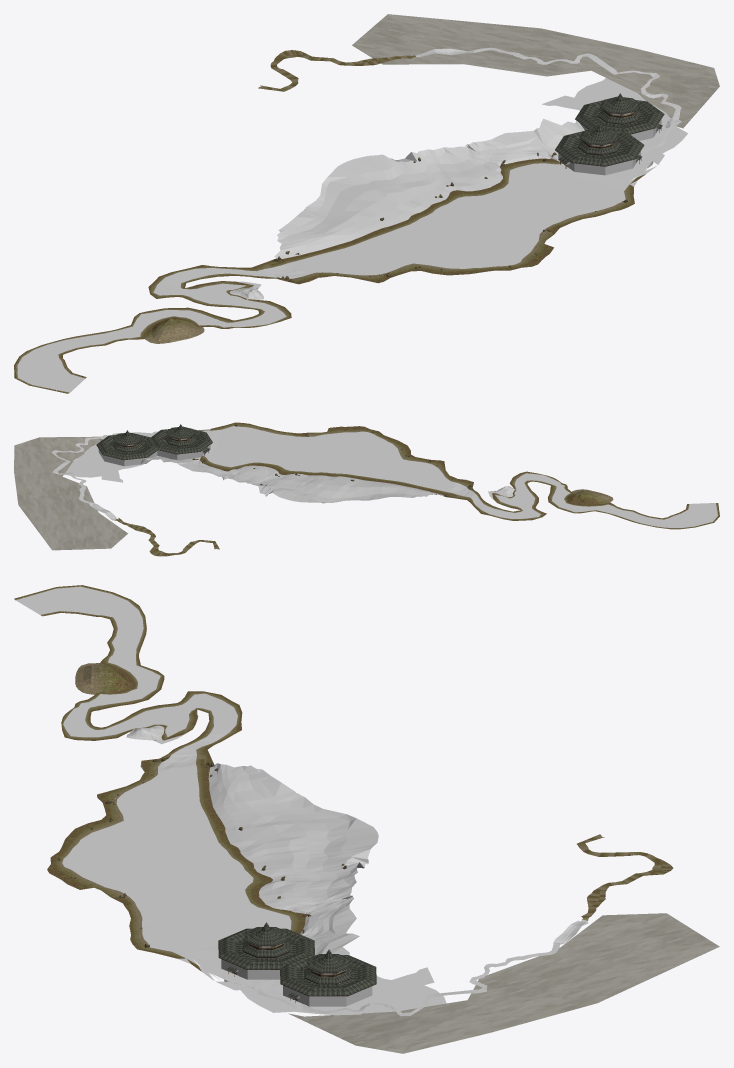
The picture shows the model from 3 angles, top to bottom: view 1: azimuth 30°, elevation 25°; view 2: azimuth 150°, elevation 25°; view 3: azimuth 270°, elevation 25°; orthographic projection. The views are drawn at different scales.
Parts seen in each view (by area): view 1: dimian01, shui, po001, menggubao, lu, lu002, po003; view 2: dimian01, shui, po001, menggubao, lu, lu002, po003; view 3: dimian01, shui, po001, menggubao, lu, po003, lu002.
Part boxes in pixels (x1=…): dimian01: x1=17, y1=78, x2=676, y2=392; shui: x1=352, y1=14, x2=719, y2=128; po001: x1=14, y1=158, x2=645, y2=393; menggubao: x1=537, y1=93, x2=664, y2=175; lu: x1=415, y1=47, x2=681, y2=164; lu002: x1=258, y1=50, x2=415, y2=91; po003: x1=144, y1=318, x2=204, y2=343; dimian01: x1=64, y1=426, x2=717, y2=527; shui: x1=14, y1=436, x2=127, y2=550; po001: x1=198, y1=422, x2=719, y2=529; menggubao: x1=96, y1=424, x2=212, y2=466; lu: x1=51, y1=435, x2=151, y2=520; lu002: x1=114, y1=518, x2=219, y2=556; po003: x1=567, y1=489, x2=613, y2=504; dimian01: x1=16, y1=586, x2=446, y2=1015; shui: x1=288, y1=913, x2=719, y2=1053; po001: x1=14, y1=585, x2=305, y2=971; menggubao: x1=218, y1=922, x2=376, y2=1006; lu: x1=225, y1=919, x2=588, y2=1016; po003: x1=75, y1=663, x2=133, y2=694; lu002: x1=577, y1=834, x2=673, y2=920.
Size of the model in its own units: 281 by 12.38 by 177.
